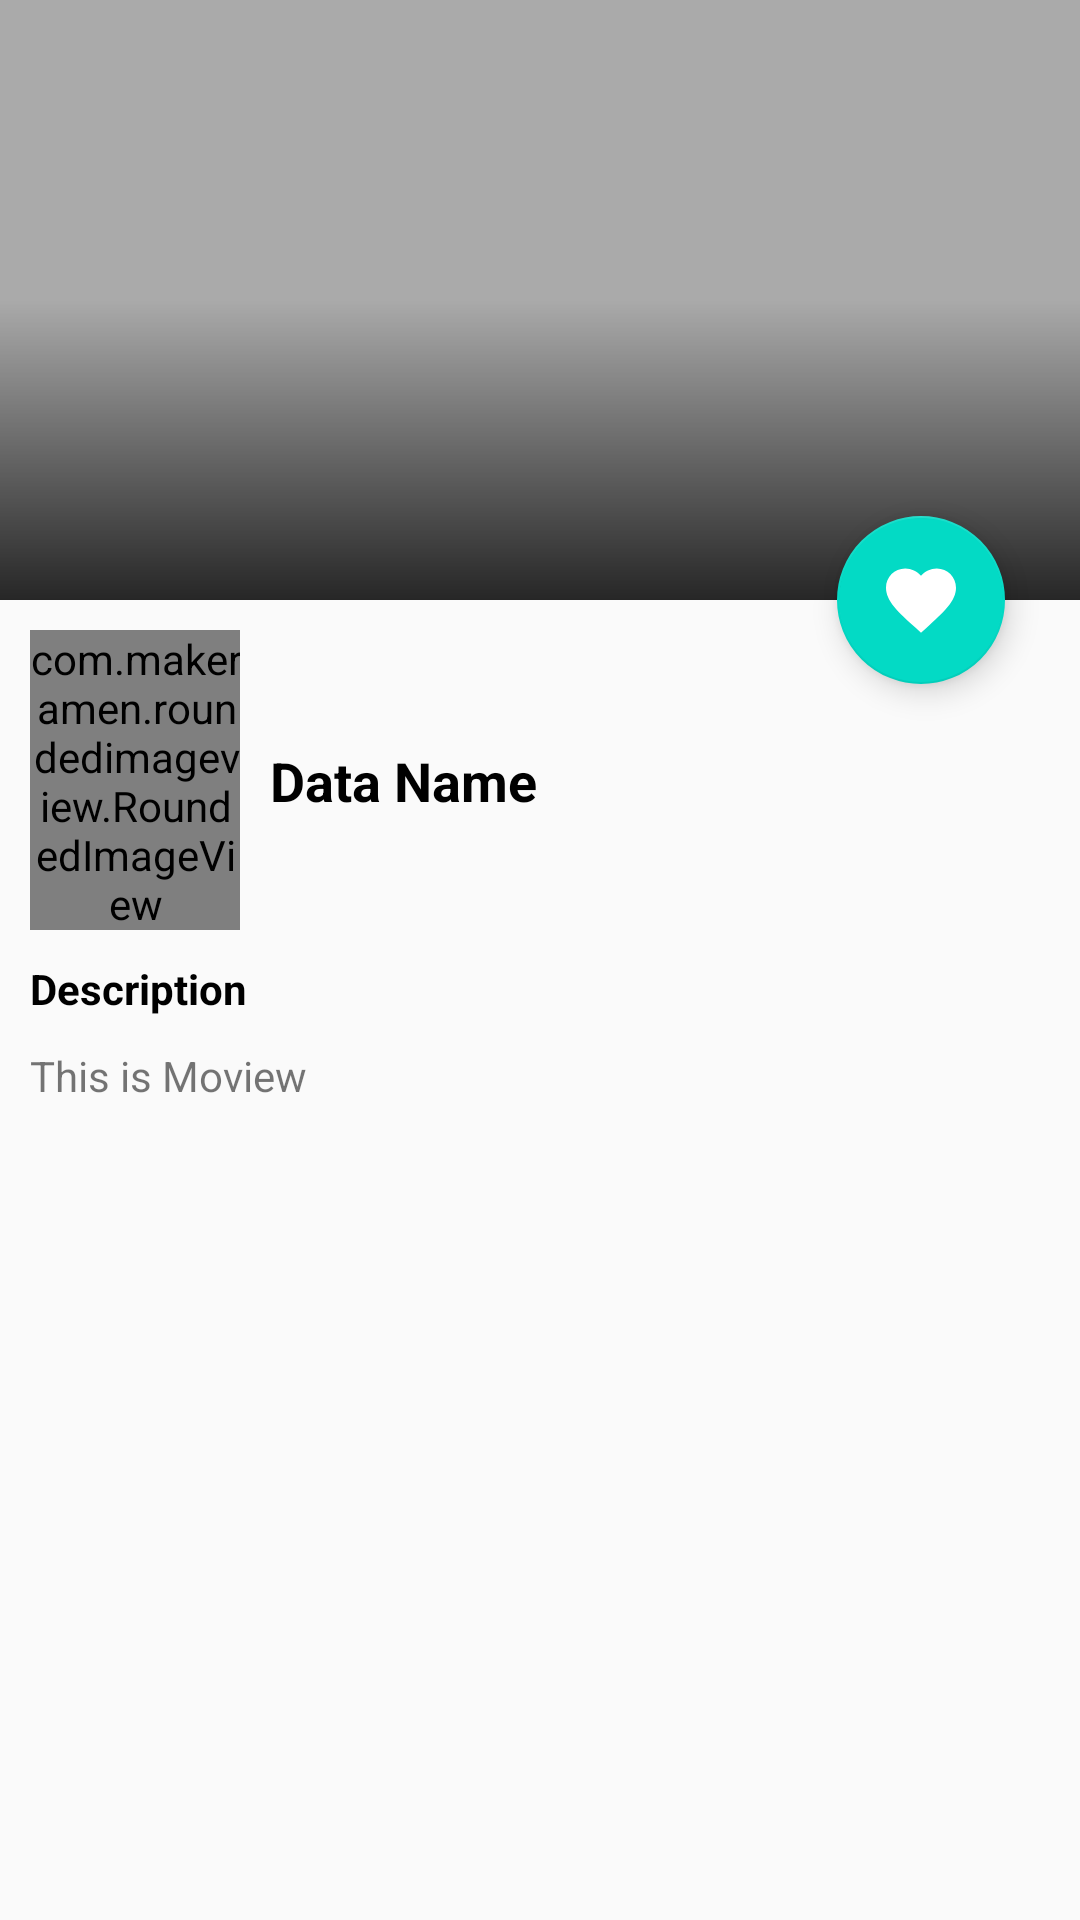

Where to tap for icons on this 1080×1920 app screen, as [x,y]:
favorite false: [921,600]
